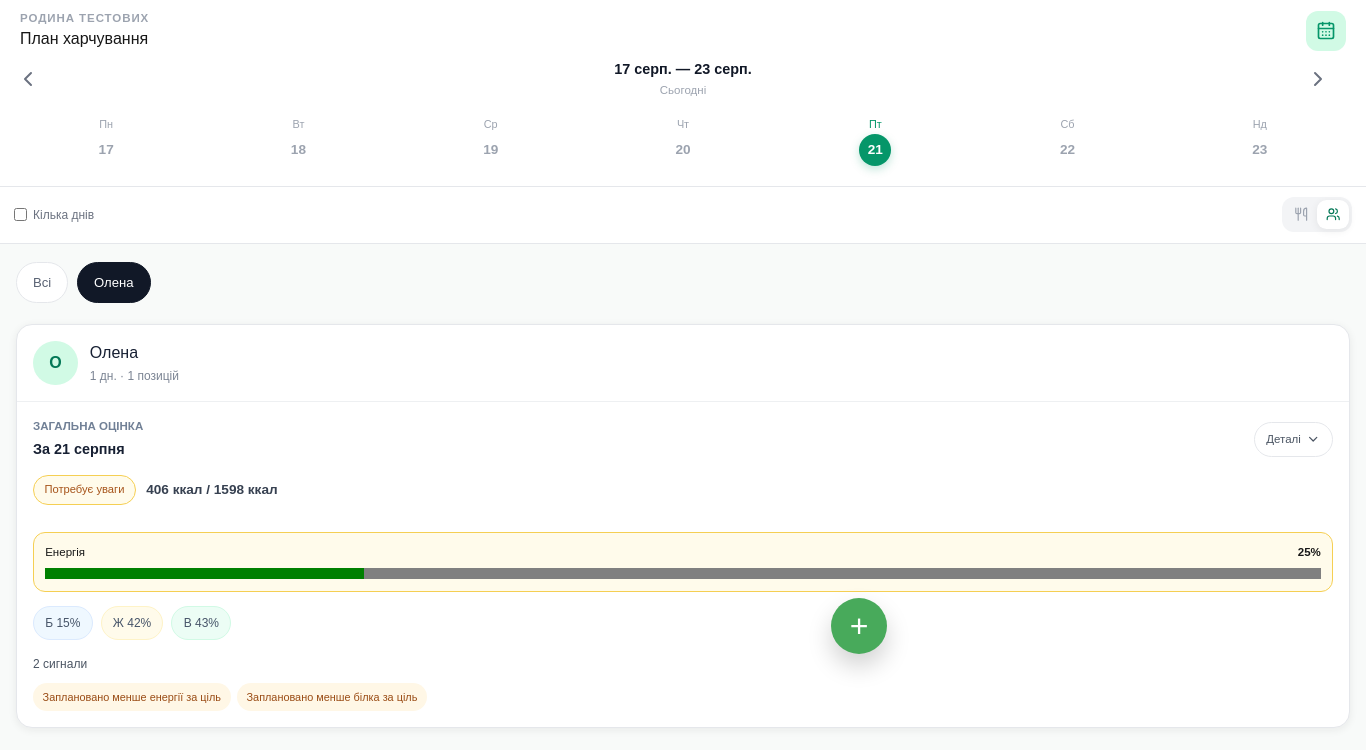
Test: MealPlanScreen › renders a selected member summary and meal groups for one day
Expected: the heading "Олена" is shown, [90,344,138,361]
Expected: the text "1 дн. · 1 позицій" is shown, [90,367,179,385]
Click the button "Деталі": (1294, 439) [1254,422,1333,457]
(page scrolled)
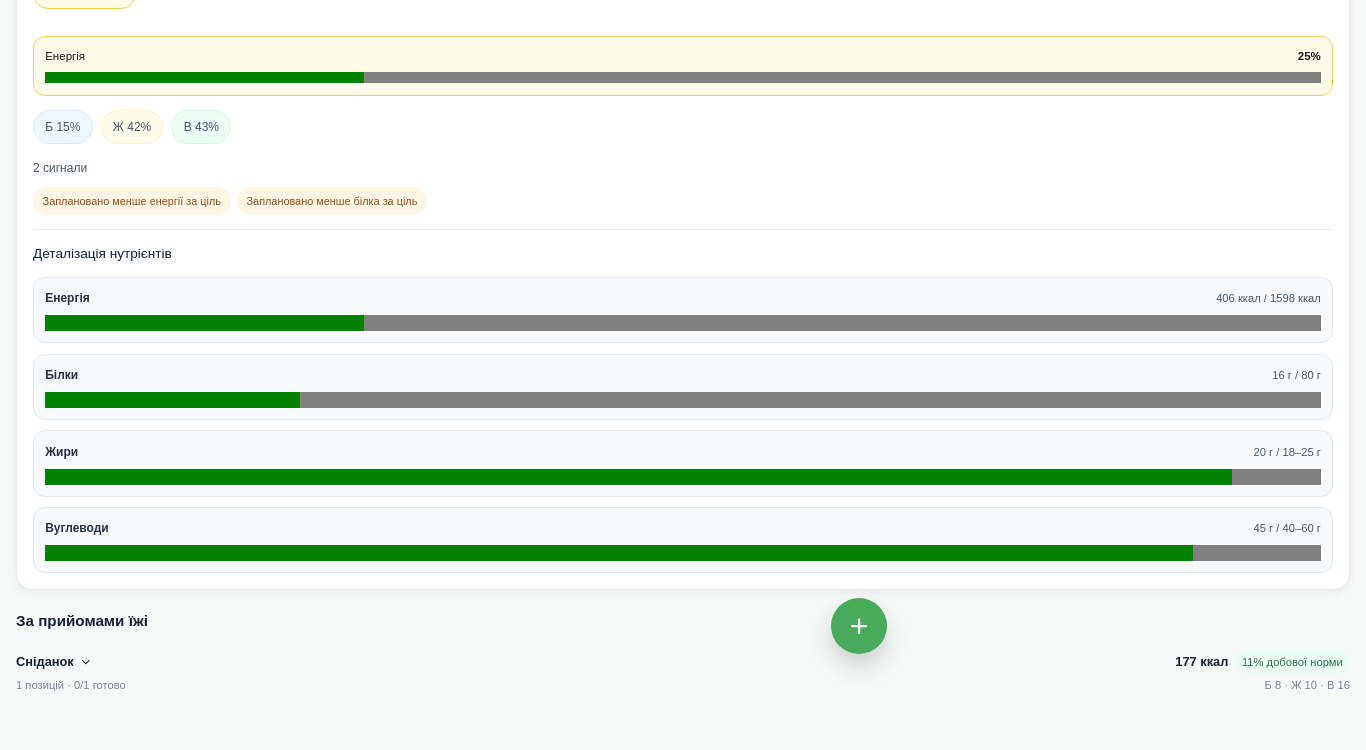
Result: the progress indicator named "Енергія: 25% цілі" is shown at [45,315,1321,331]
Result: the progress indicator named "Білки: 20% цілі" is shown at [45,392,1321,408]
Result: the progress indicator named "Жири: 93% цілі" is shown at [45,468,1321,484]
